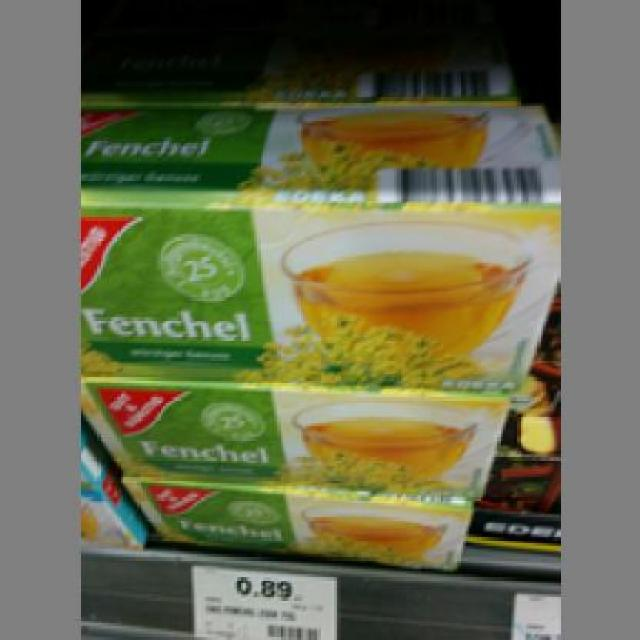Tea: (80, 103, 557, 386), (77, 368, 506, 498)
